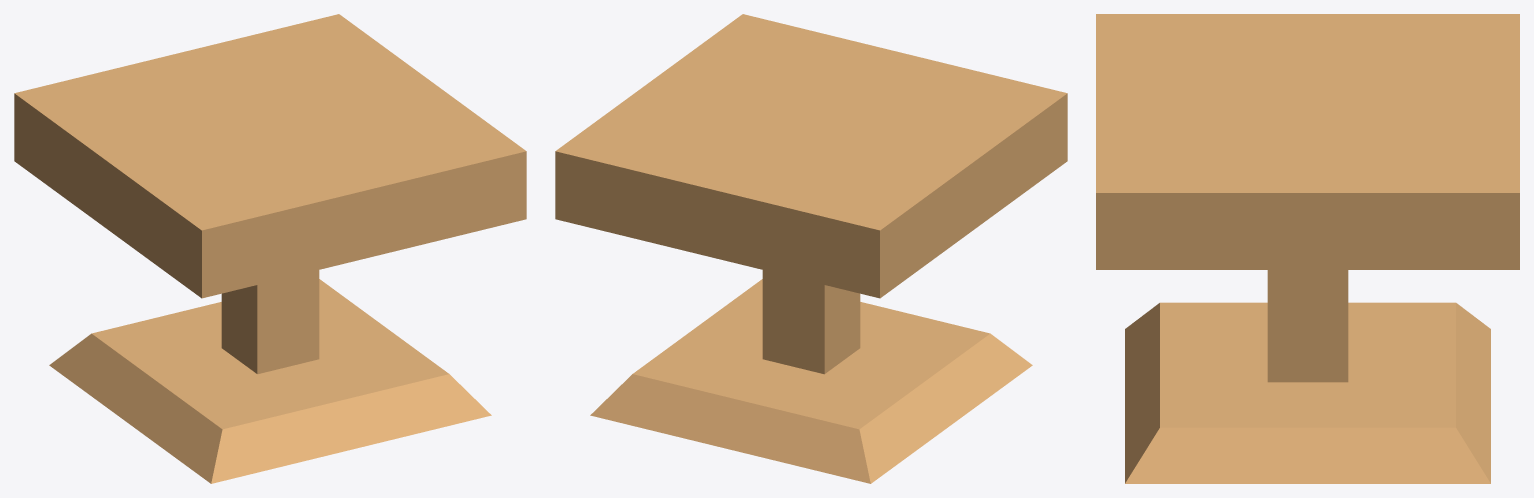
Rendered from cofee_table_01_mockup.fbx.
The picture shows the model from 3 angles, left to right: view 1: azimuth 30°, elevation 25°; view 2: azimuth 150°, elevation 25°; view 3: azimuth 270°, elevation 25°; orthographic projection. The views are drawn at different scales.
Parts seen in each view (by area): view 1: Cube; view 2: Cube; view 3: Cube.
Part boxes in pixels (left/top/right/bottom): Cube: left=14, top=14, right=526, bottom=483; Cube: left=555, top=14, right=1067, bottom=483; Cube: left=1096, top=14, right=1519, bottom=483.
Bounding box in the file's own units: 0.5 × 0.5 × 0.3944.
